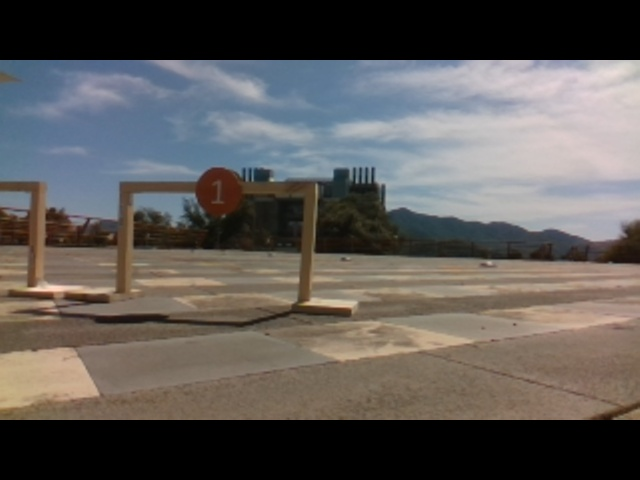checkpoint_foot: (288, 293, 359, 317), (68, 284, 140, 302), (6, 281, 67, 299)
checkpoint_side: (27, 177, 50, 288), (300, 175, 319, 301), (114, 177, 132, 292)
checkpoint_signal: (116, 176, 319, 196)
one: (195, 167, 242, 216)
